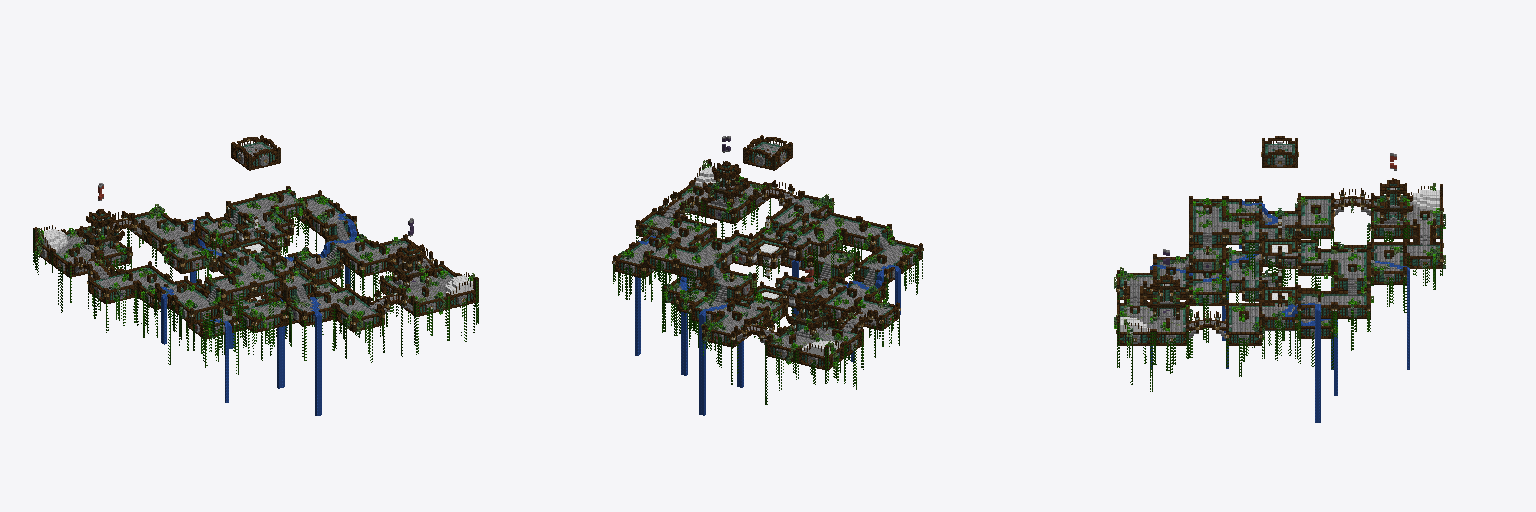
3 renders of one model, left to right at view 1: azimuth 30°, elevation 25°; view 2: azimuth 150°, elevation 25°; view 3: azimuth 270°, elevation 25°, orthographic.
Bounding box in the file's own units: 1011 × 750 × 1010.
Materials: 26 (26 with a texture image).